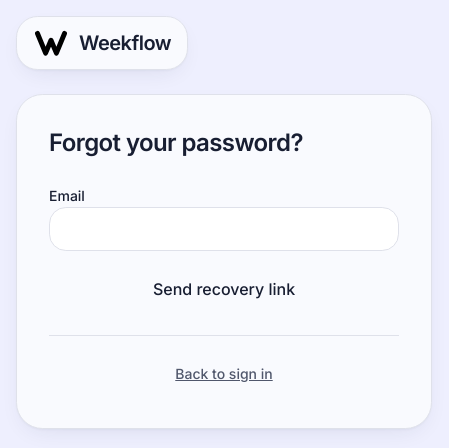
authentication screens › uses generic recovery success (missing account: false)
Type "alex@example.test" into the field labelled "Email" at (224, 228), box top-left (49, 206), bottom-right (399, 250)
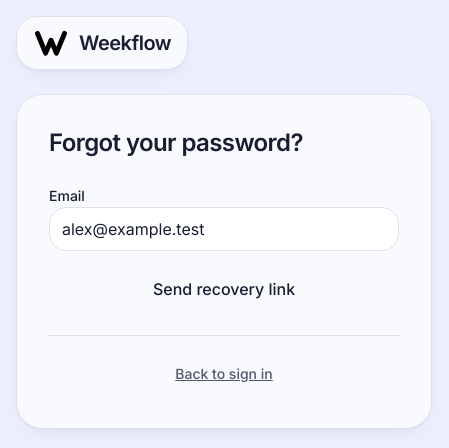
Click the button "Send recovery link" at (224, 288), box top-left (49, 266), bottom-right (399, 310)
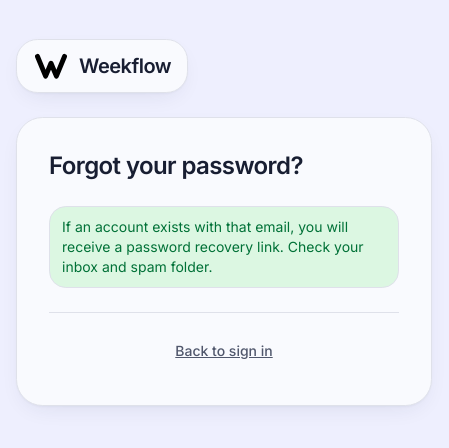
Now the text "If an account exists with that email" is shown, box top-left (62, 218), bottom-right (364, 274)
